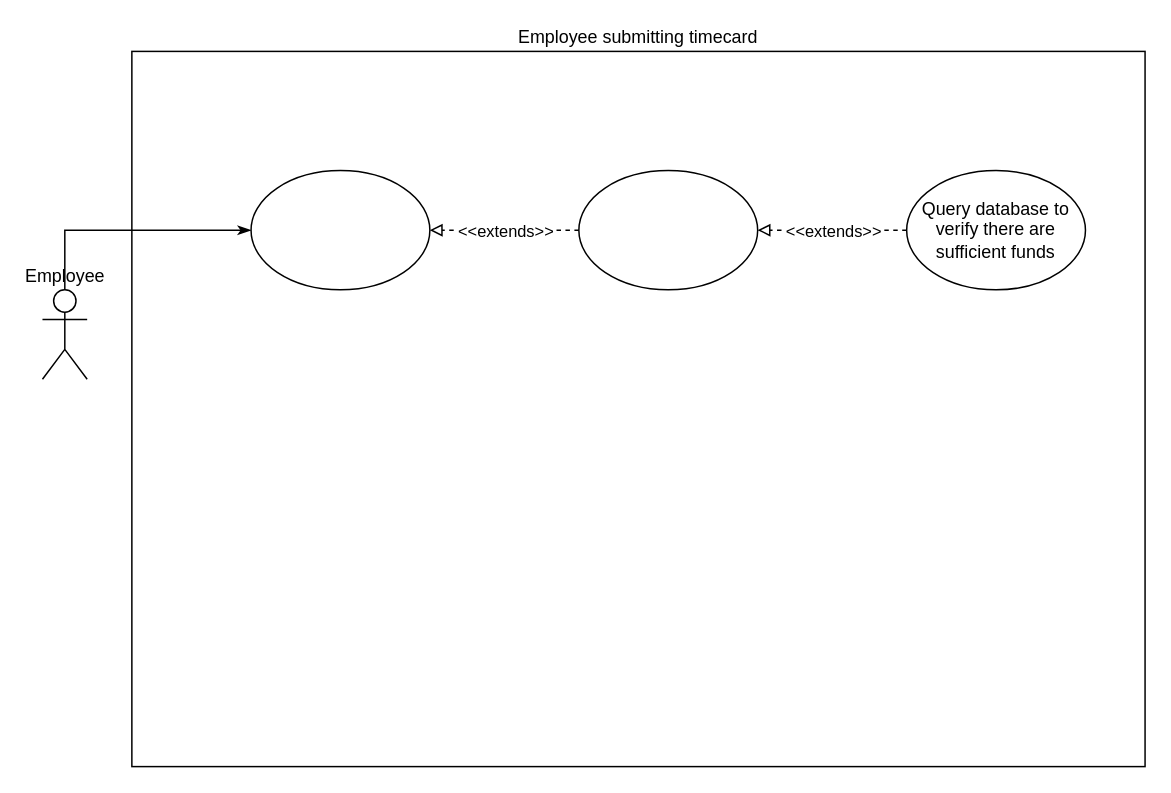
Some shapes in this 1171 by 793 pixel diagram are drawn without their labels. The shapes that lost their labels are listed below. From the top down, each one's centre as x and y in pixels, then its label:
(x=340, y=229): Update timecard
(x=667, y=229): Update database
